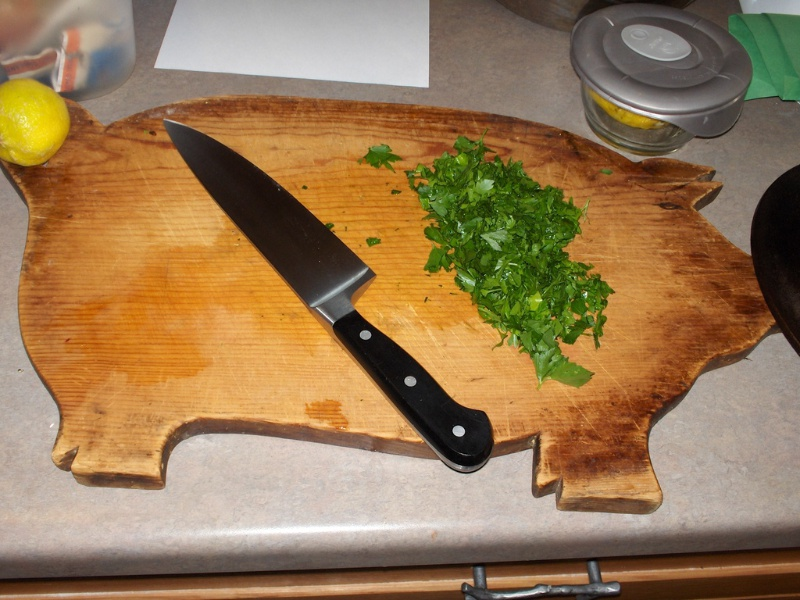knife: (160, 114, 495, 476)
